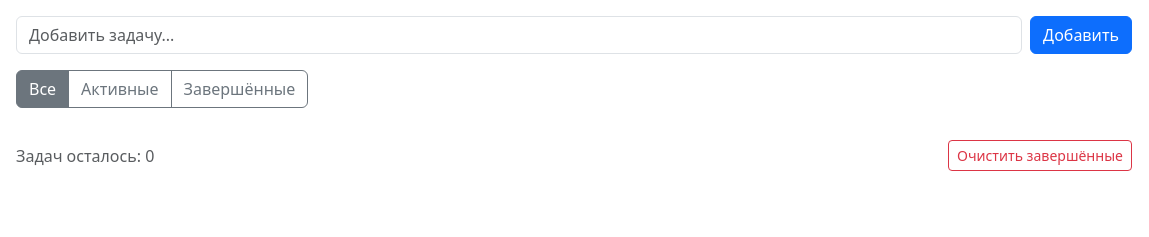
Добавление новой задачи
The width and height of the screenshot is (1149, 237).
Type "Сделать тест" into the field with placeholder "Добавить задачу..." at (519, 35), box x1=16 y1=16 x2=1022 y2=54
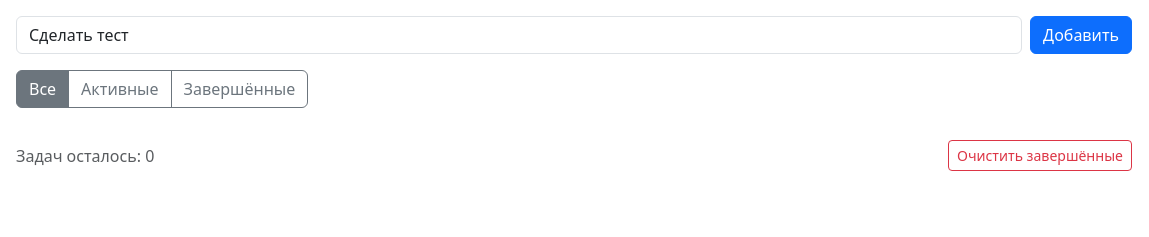
Click the button "Добавить" at (1081, 35), box x1=1030 y1=16 x2=1132 y2=54
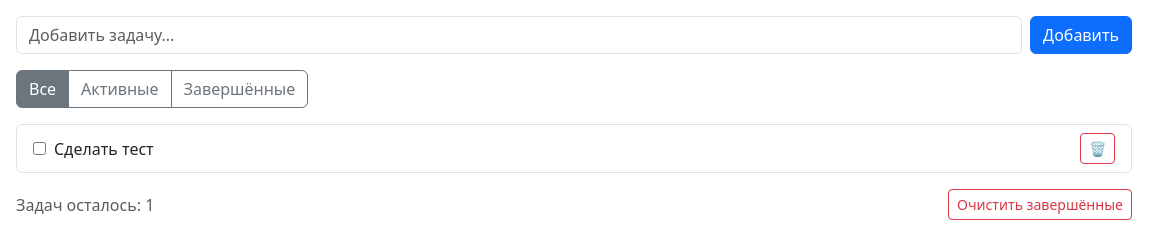
Result: the text "Сделать тест" is shown at x1=54 y1=136 x2=154 y2=160
